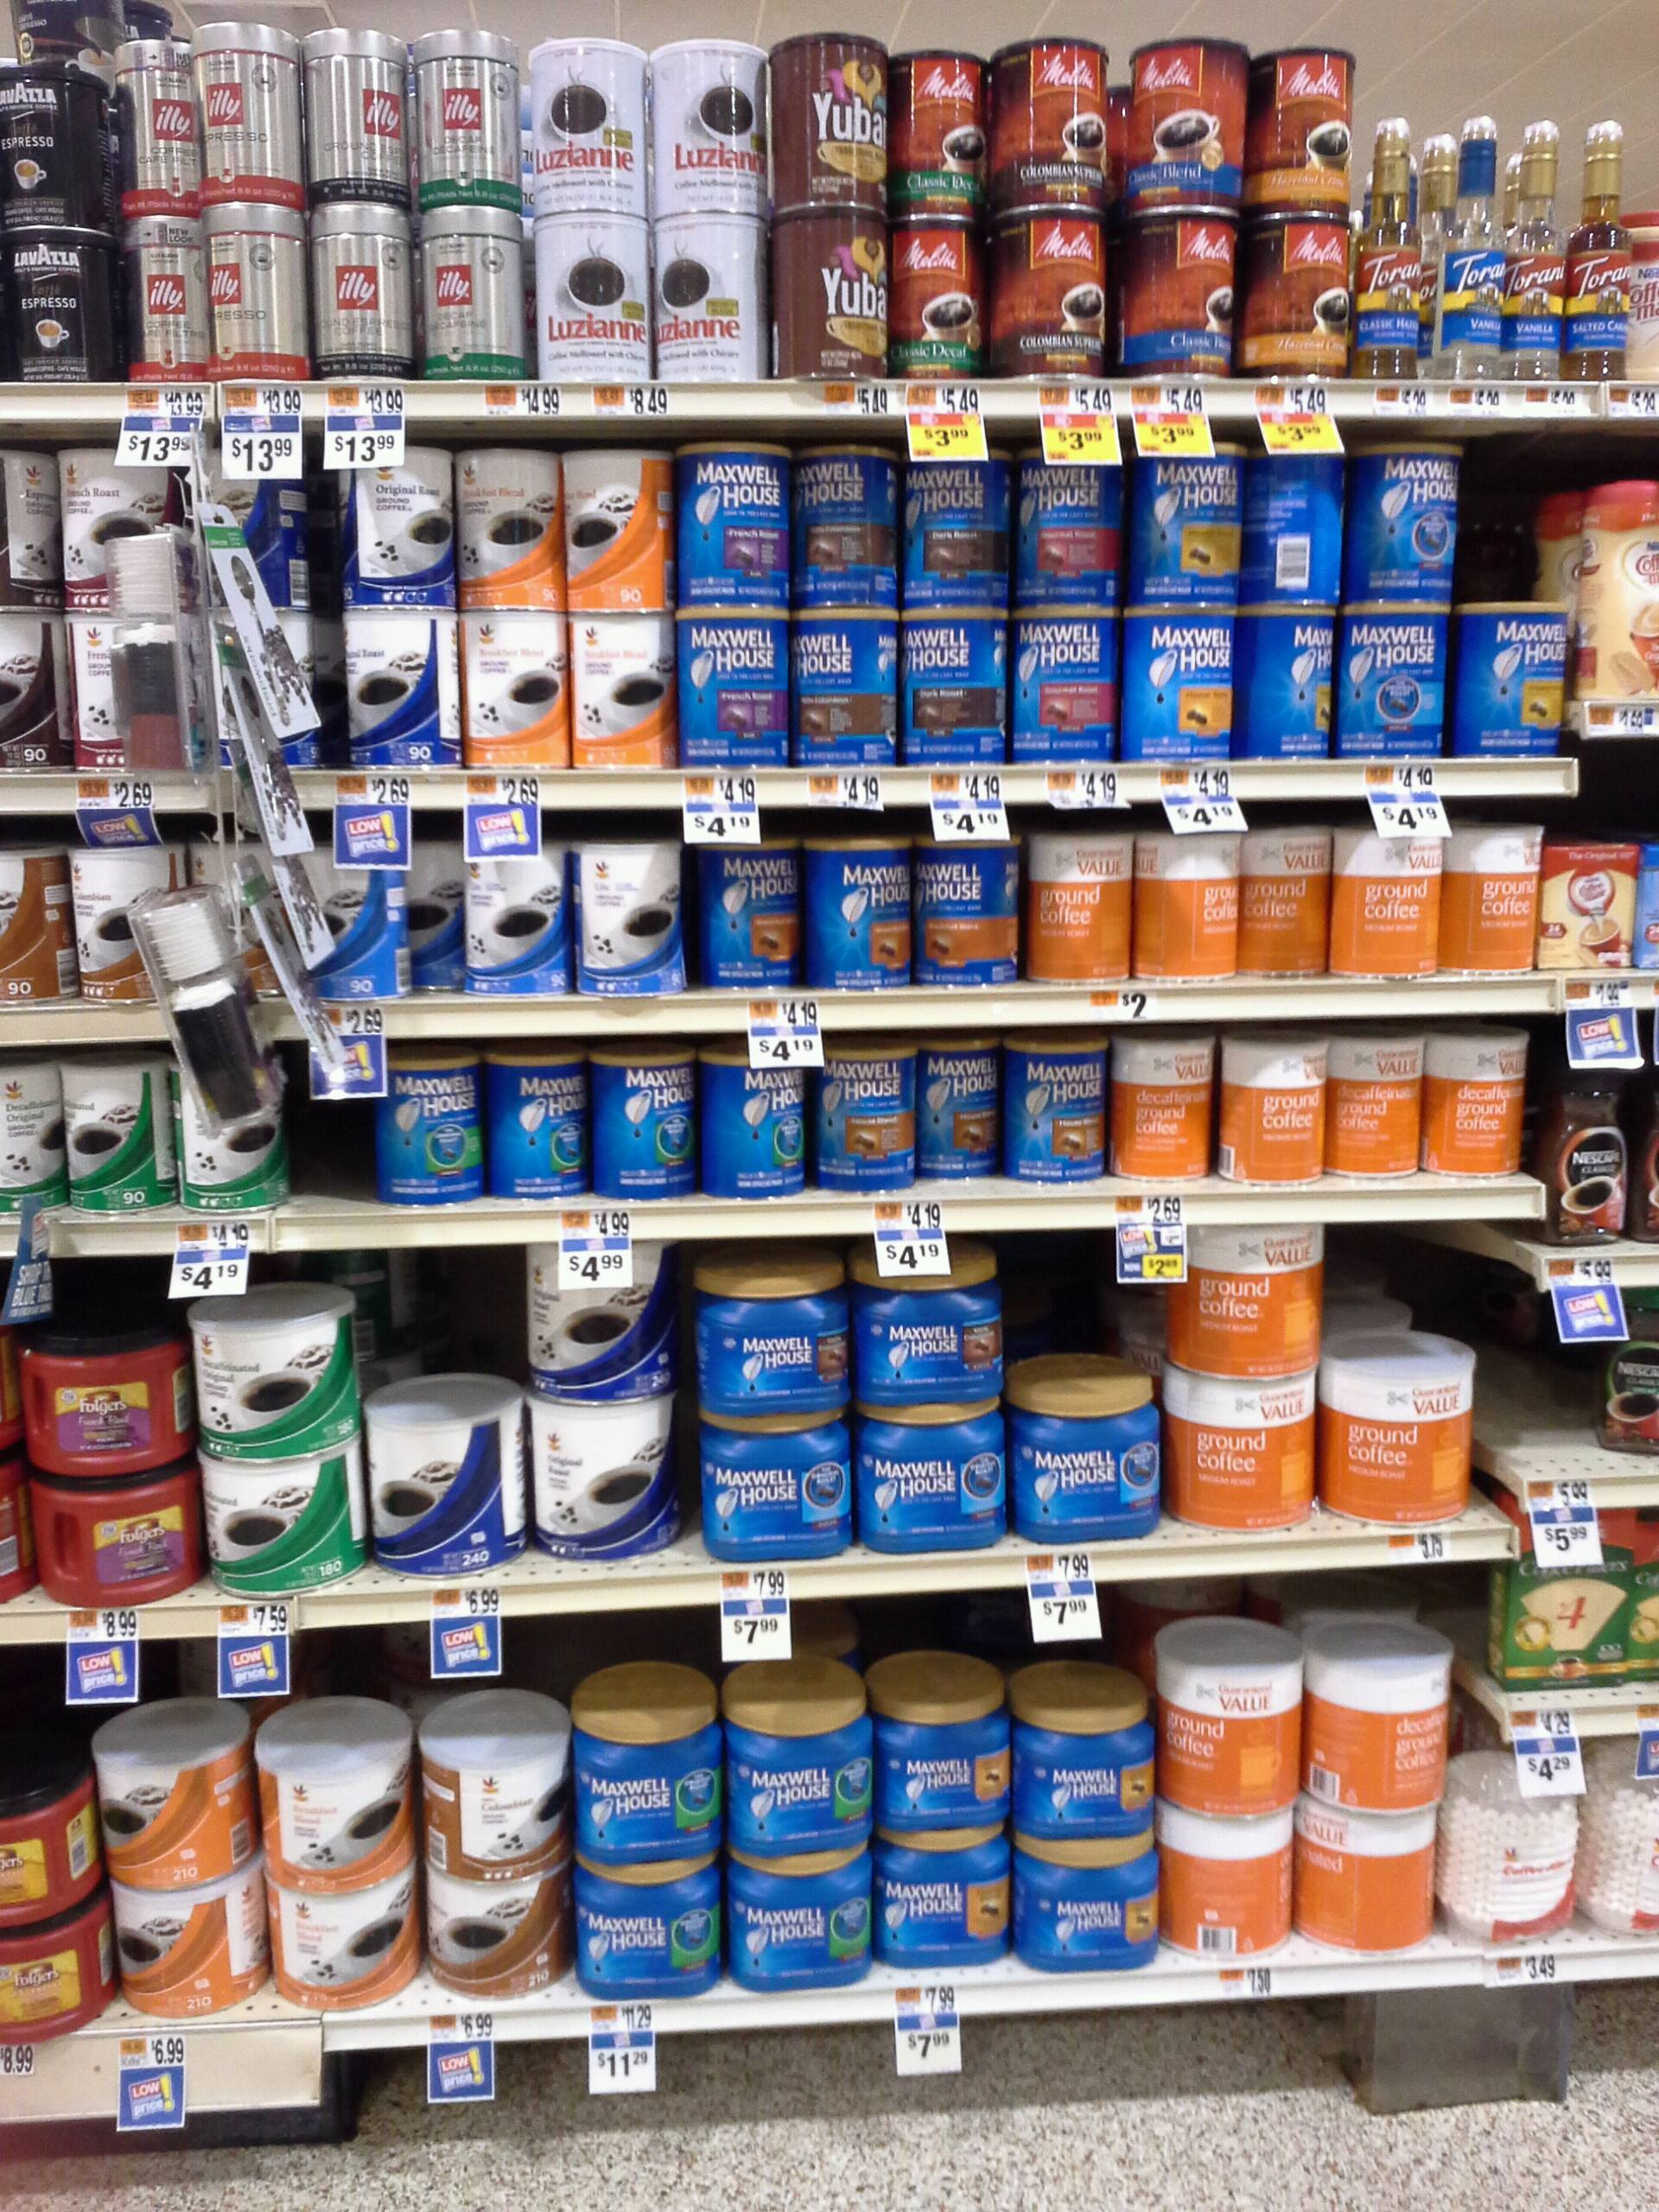Out-of-stock: (359, 1256, 532, 1578)
